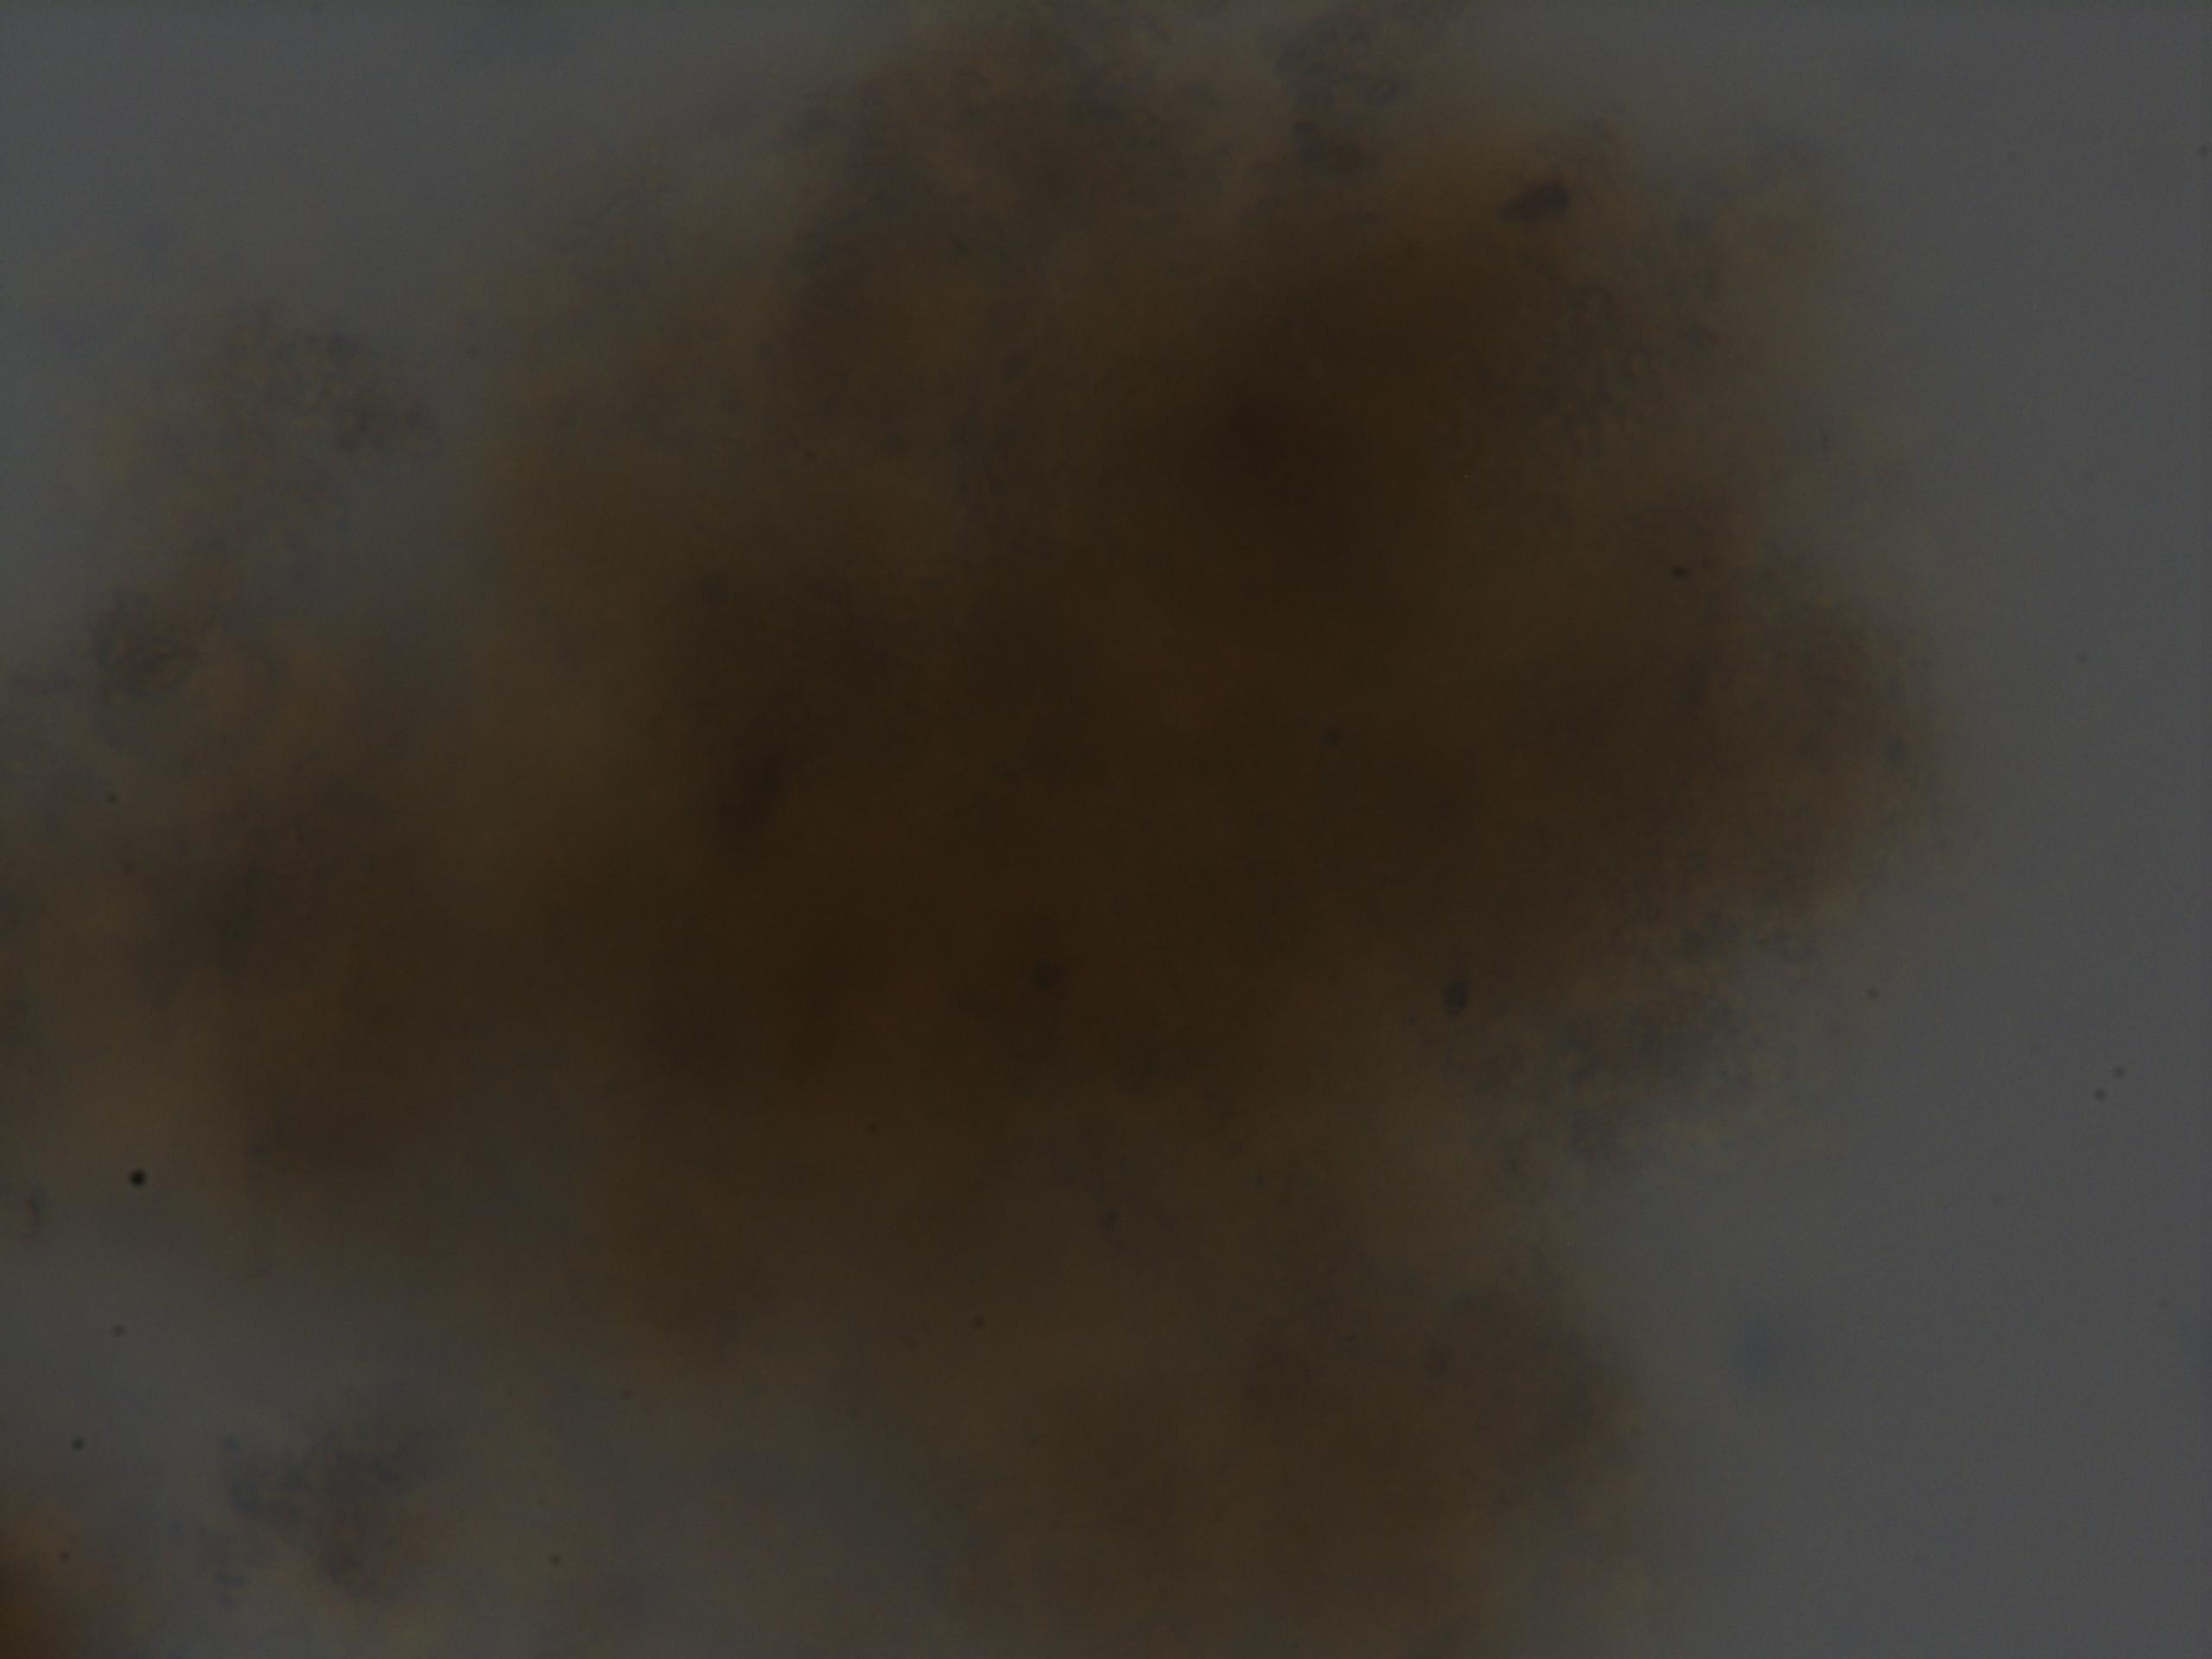spherical_floc: (49, 0, 1930, 1659)
